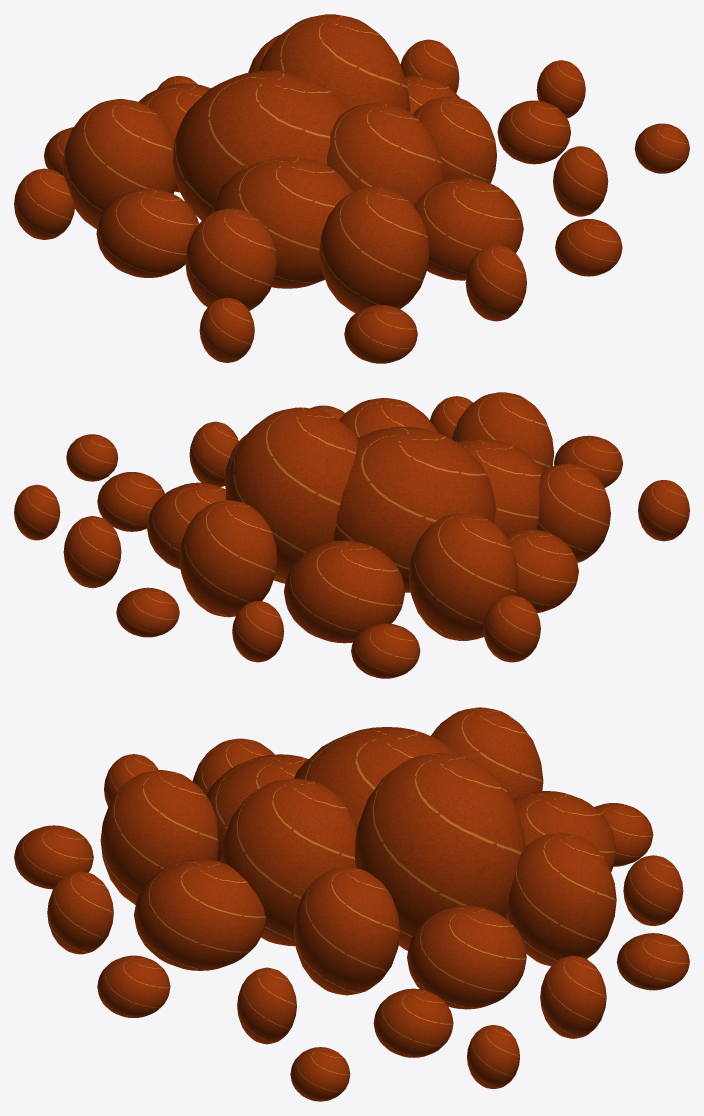
File: model-organic-cluster-02.gltf
The picture shows the model from 3 angles, top to bottom: view 1: azimuth 30°, elevation 25°; view 2: azimuth 150°, elevation 25°; view 3: azimuth 270°, elevation 25°; orthographic projection. The views are drawn at different scales.
Visible parts, largest first — view 1: membrane-1, mid-7, mid-1, membrane-3, membrane-2, membrane-4, mid-6, mid-8, mid-9, mid-5, edge-9, edge-6 (+11 smaller); view 2: membrane-1, membrane-2, mid-1, mid-2, mid-3, mid-8, membrane-3, mid-7, mid-9, mid-4, edge-5, edge-1 (+11 smaller); view 3: membrane-2, membrane-4, mid-6, mid-3, mid-5, mid-7, mid-4, membrane-1, mid-1, edge-5, edge-9, edge-6 (+12 smaller).
Part boxes in pixels (x1,y1,x2,y2): membrane-1: [173, 70, 349, 220]; mid-7: [319, 186, 429, 313]; mid-1: [62, 99, 176, 229]; membrane-3: [212, 157, 353, 288]; membrane-2: [258, 14, 410, 112]; membrane-4: [327, 103, 444, 205]; mid-6: [413, 177, 523, 280]; mid-8: [185, 208, 277, 310]; mid-9: [96, 188, 198, 277]; mid-5: [413, 96, 496, 183]; edge-9: [465, 244, 526, 321]; edge-6: [497, 100, 570, 164]; membrane-1: [334, 426, 495, 592]; membrane-2: [225, 407, 357, 583]; mid-1: [408, 512, 518, 640]; mid-2: [284, 540, 404, 643]; mid-3: [179, 500, 277, 617]; mid-8: [537, 463, 610, 562]; membrane-3: [457, 438, 543, 534]; mid-7: [452, 392, 554, 471]; mid-9: [505, 529, 578, 612]; mid-4: [147, 482, 226, 569]; edge-5: [63, 516, 121, 588]; edge-1: [483, 595, 540, 662]; membrane-2: [355, 752, 525, 950]; membrane-4: [220, 778, 356, 946]; mid-6: [134, 859, 265, 970]; mid-3: [506, 832, 616, 966]; mid-5: [293, 867, 400, 995]; mid-7: [100, 770, 218, 904]; mid-4: [407, 905, 526, 1009]; membrane-1: [294, 727, 461, 830]; mid-1: [431, 707, 543, 798]; edge-5: [540, 955, 606, 1038]; edge-9: [47, 871, 113, 954]; edge-6: [373, 988, 453, 1057].
Bounding box in the file's own units: 110 × 32 × 102.
Materials: 2 (2 with a texture image).
